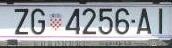-: (130, 19, 136, 24)
2: (82, 8, 97, 35)
4: (65, 8, 81, 35)
5: (99, 8, 114, 35)
6: (115, 8, 130, 36)
A: (135, 8, 153, 35)
G: (31, 8, 46, 35)
I: (158, 8, 163, 35)
Z: (13, 8, 28, 35)
